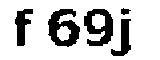6: (44, 5, 82, 47)
9: (80, 5, 114, 47)
f: (9, 6, 36, 52)
j: (114, 2, 137, 60)
